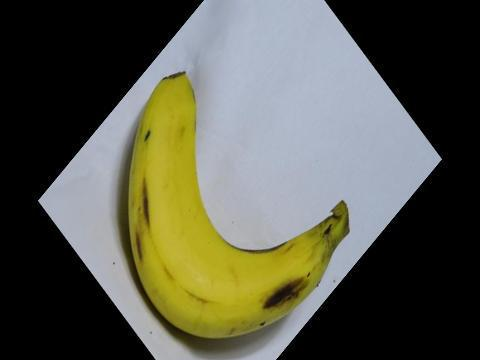freshripe: (106, 65, 356, 348)
